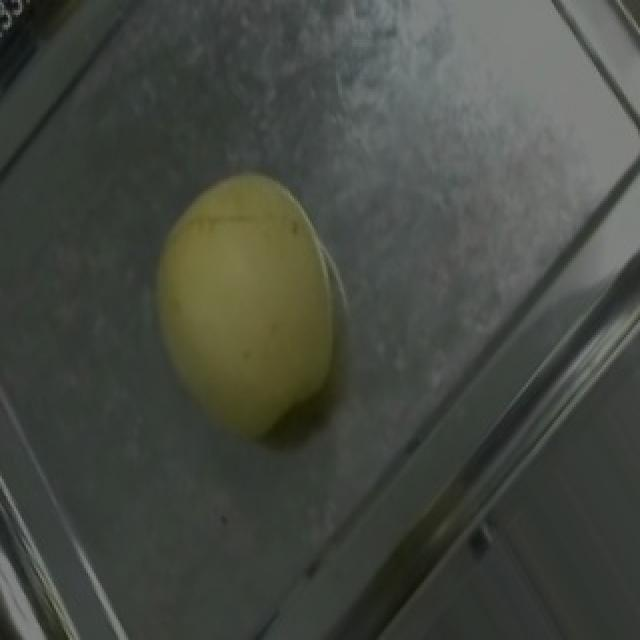Fruit: (106, 134, 394, 479)
